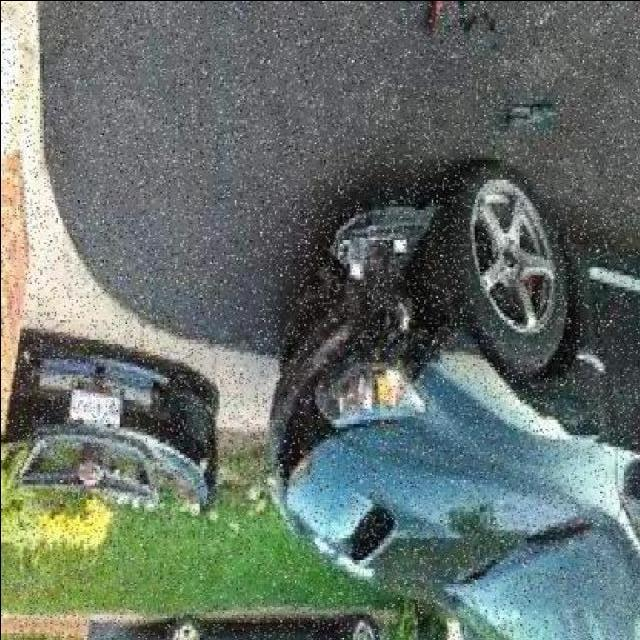front-bumper-dent: (234, 187, 488, 374)
